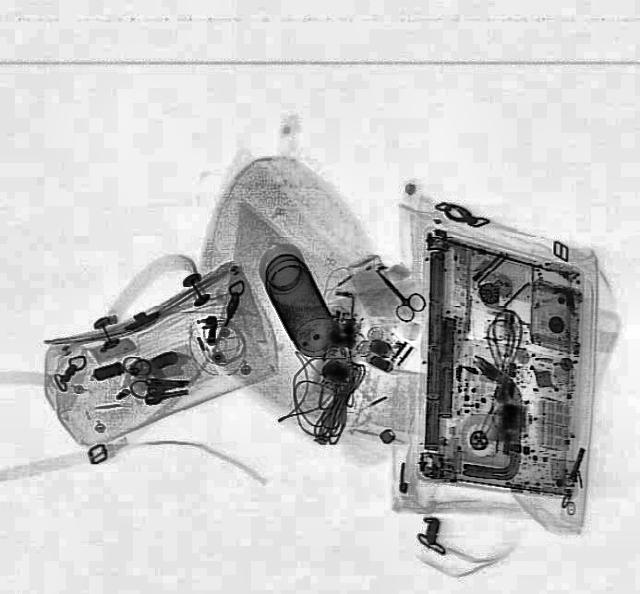Scissors: (361, 261, 431, 325)
